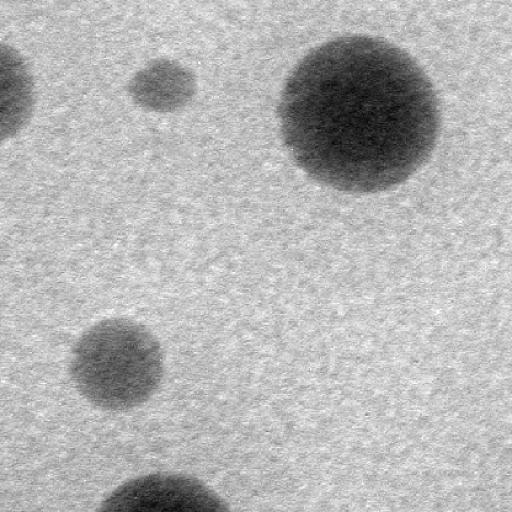Nanoparticles: (274, 29, 444, 201), (70, 309, 167, 416), (96, 470, 236, 512), (124, 54, 198, 123), (1, 38, 42, 152)
